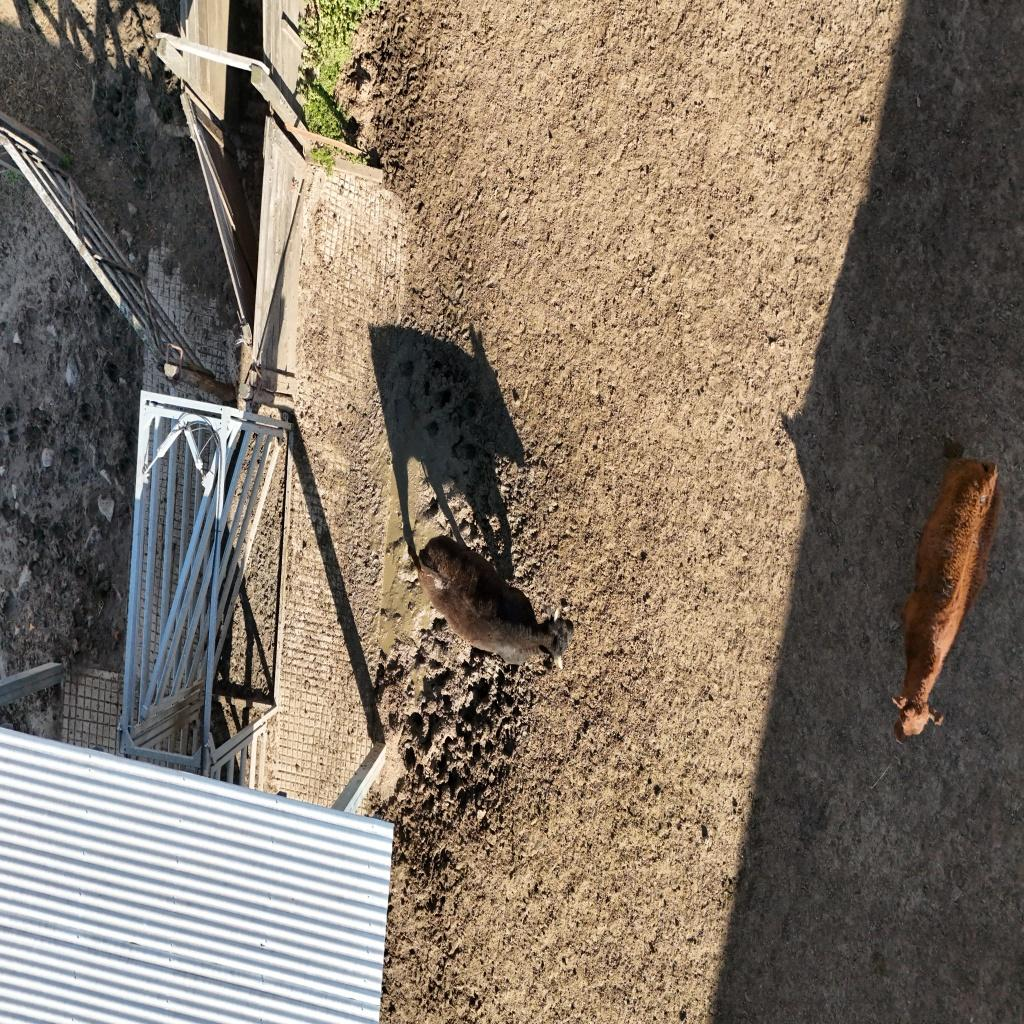cow: (884, 446, 1008, 744), (406, 509, 576, 676)
